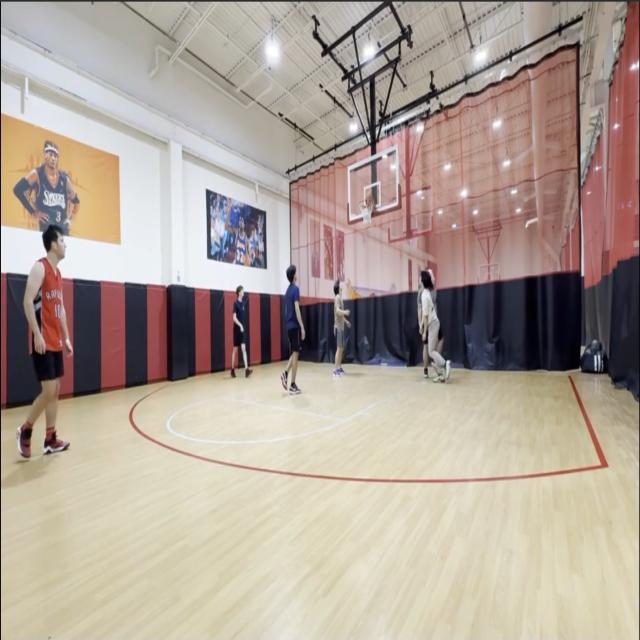Basketball: (366, 192, 374, 200)
Basketball Rim: (359, 200, 374, 224)
